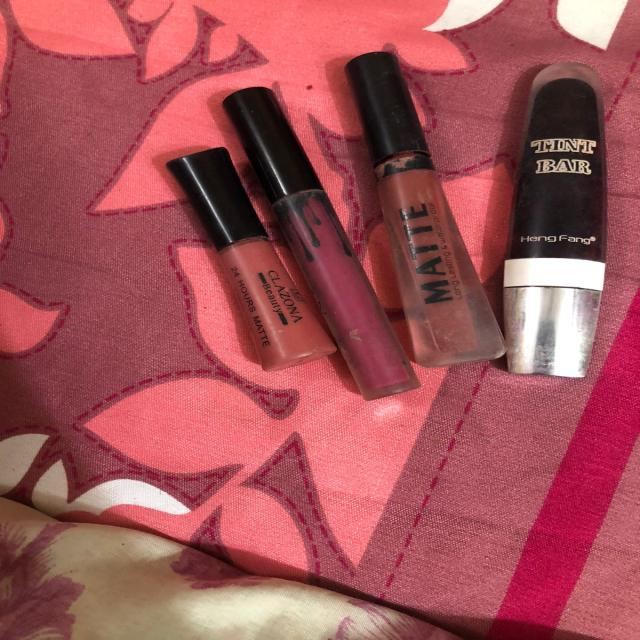lip gloss: (214, 82, 416, 423), (344, 48, 516, 377), (160, 145, 335, 369)
lip stick: (496, 46, 611, 395)
